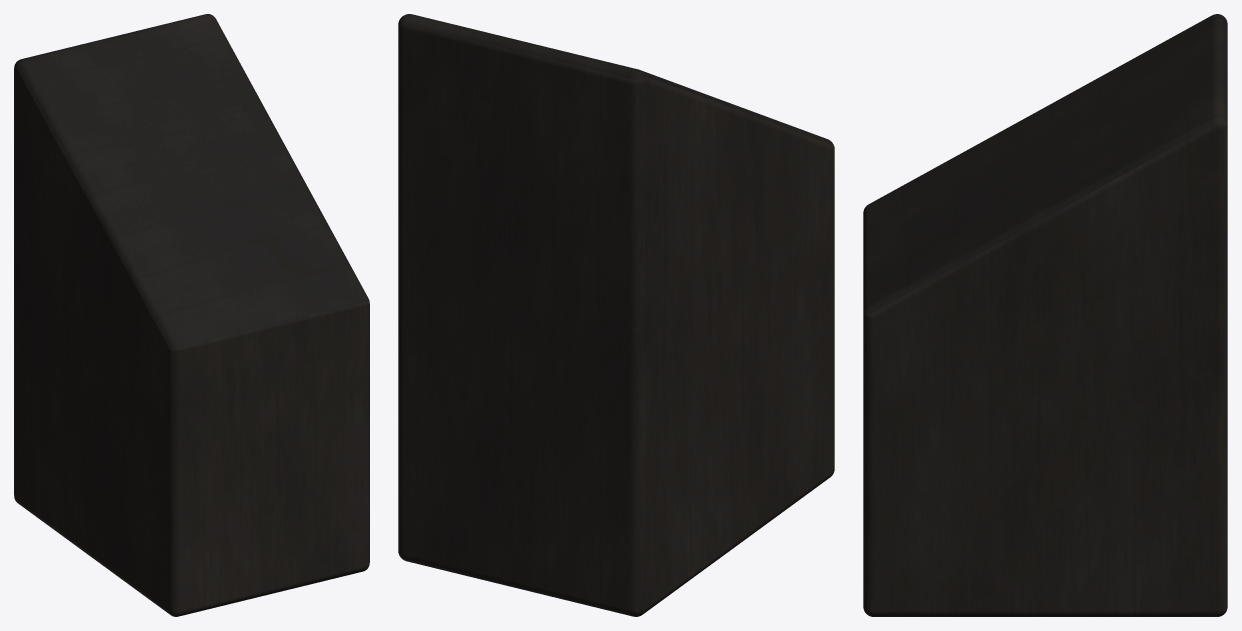
File: bishop-black-hd.glb
The picture shows the model from 3 angles, left to right: view 1: azimuth 30°, elevation 25°; view 2: azimuth 150°, elevation 25°; view 3: azimuth 270°, elevation 25°; orthographic projection. The views are drawn at different scales.
Visible parts, largest first — view 1: Rez_Strelec_cerny; view 2: Rez_Strelec_cerny; view 3: Rez_Strelec_cerny.
Part boxes in pixels (left/top/right/bottom): Rez_Strelec_cerny: left=14, top=14, right=369, bottom=616; Rez_Strelec_cerny: left=398, top=14, right=834, bottom=616; Rez_Strelec_cerny: left=863, top=14, right=1227, bottom=616.
Bounding box in the file's own units: 0.4814 × 1.02 × 0.6739.
Materials: 2 (2 with a texture image).
